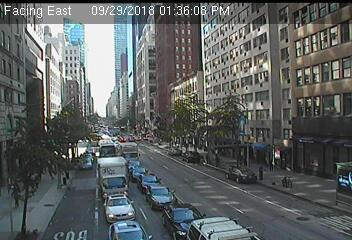car: (160, 202, 207, 240), (186, 217, 259, 240), (95, 158, 131, 199), (104, 195, 137, 223), (144, 184, 178, 210), (108, 221, 153, 240), (117, 142, 141, 166), (225, 166, 257, 184), (137, 173, 162, 194), (98, 140, 117, 163), (130, 166, 148, 182), (181, 150, 202, 163), (126, 160, 143, 175), (78, 157, 92, 170), (166, 147, 182, 157), (83, 153, 92, 162)
